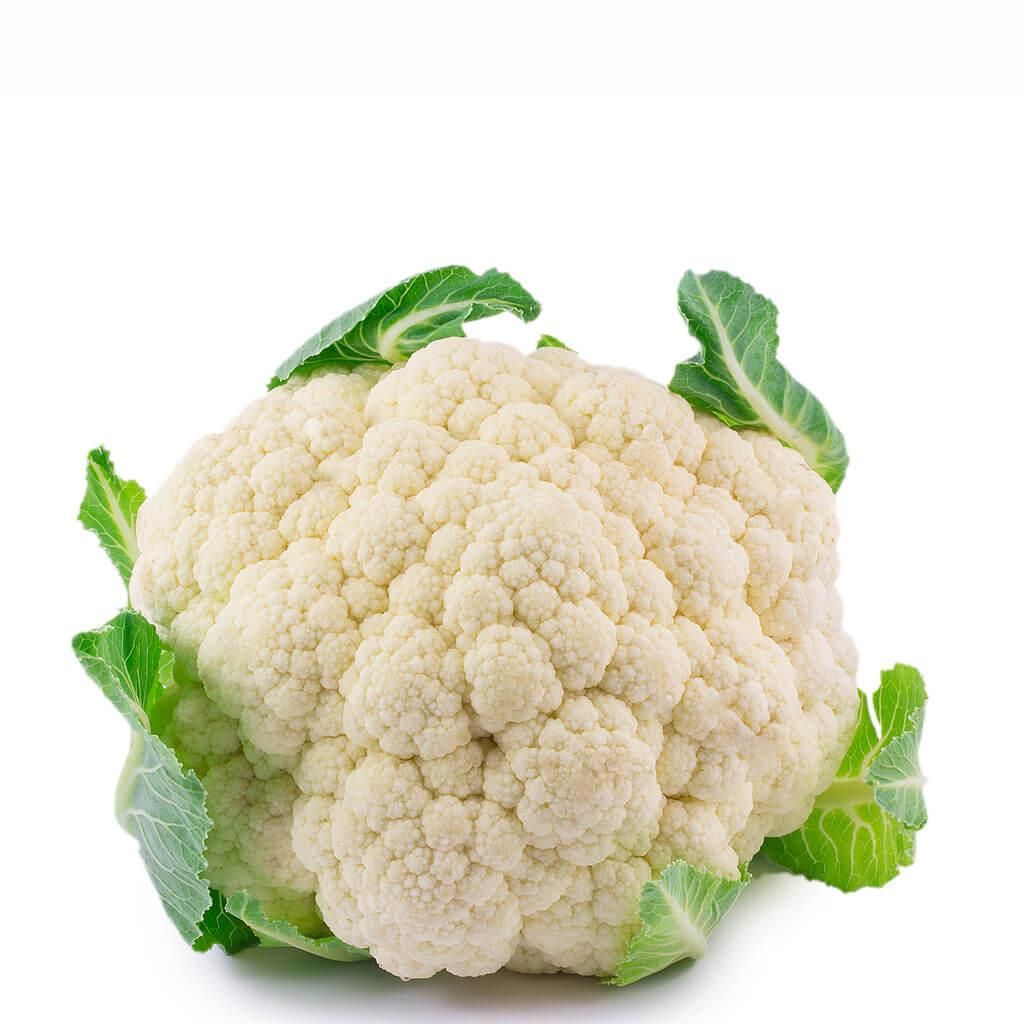cauliflower: (121, 333, 861, 983)
